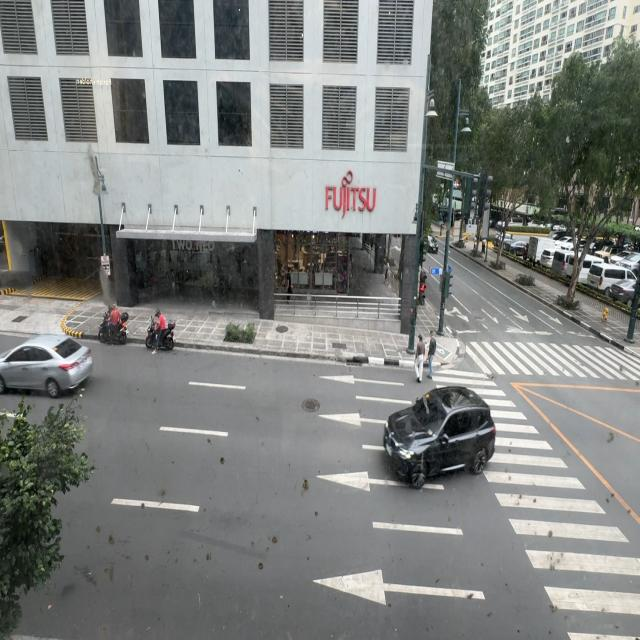jaywalking: (415, 332, 426, 380), (427, 332, 437, 379)
pedestrain: (286, 270, 292, 306)
